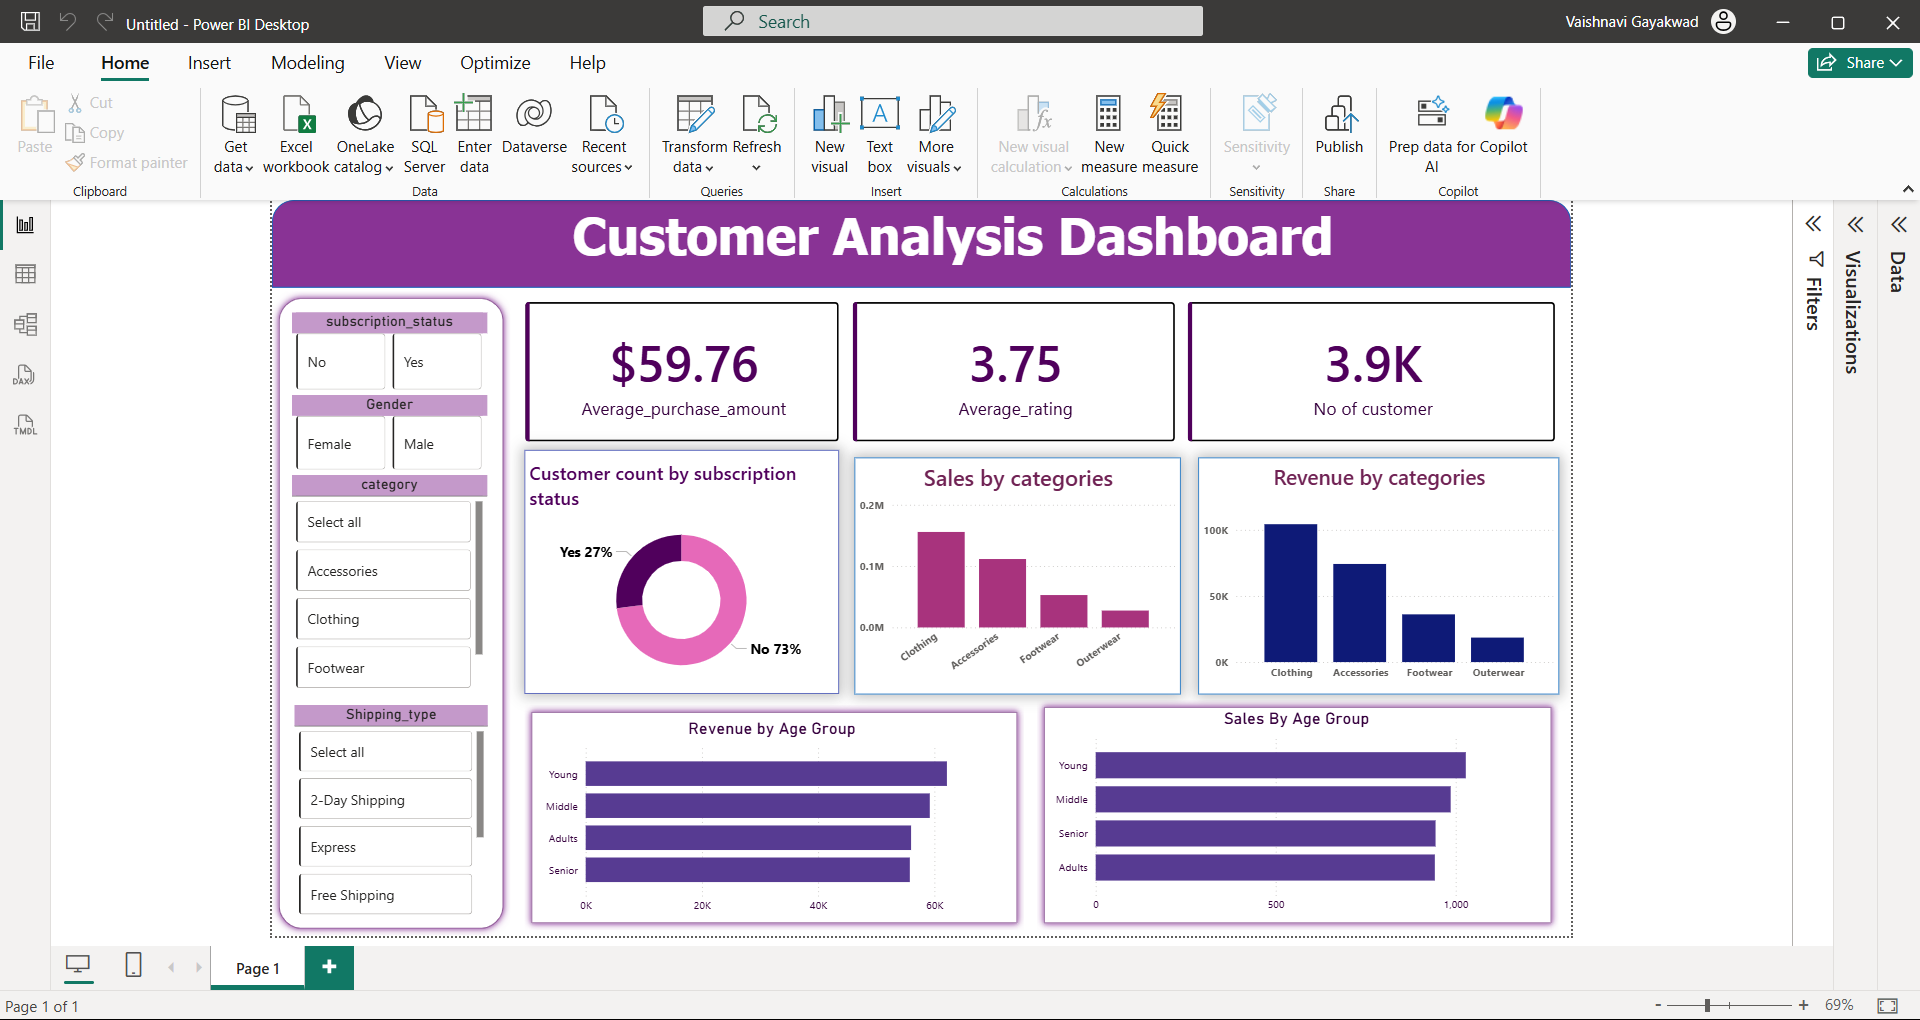

The page's visual inventory and layout, read from the dashboard file:
{"tool":"powerbi","page":{"name":"Dashboard","canvas":[1500,850],"ordinal":0},"visuals":[{"type":"shape","box":[0,0,1500.3,101.3],"z":0},{"type":"shape","box":[291.6,583.2,577.2,260],"z":1000},{"type":"shape","box":[0,105.7,275.3,744],"z":2000},{"type":"textbox","box":[341.5,0,936.6,105.6],"z":3000},{"type":"cardVisual","fields":{"Data":["customer_analysis customer1.Average_rating"]},"box":[654.3,101.7,406.9,195.5],"z":4000},{"type":"cardVisual","fields":{"Data":["customer_analysis customer1.No of customer"]},"box":[1041.2,101.7,458.8,195.5],"z":5000},{"type":"cardVisual","fields":{"Data":["customer_analysis customer1.Average_purchasAMT"]},"box":[275.3,101.7,396.9,195.5],"z":6000},{"type":"clusteredColumnChart","title":"Sales by categories","fields":{"Category":["customer_analysis customer1.category"],"Y":["Sum(customer_analysis customer1.purchase_frequency_days)"]},"box":[672.2,297.2,377,273.3],"z":7000},{"type":"donutChart","title":"Customer count by subscription status","fields":{"Category":["customer_analysis customer1.subscription_status"],"Y":["CountNonNull(customer_analysis customer1.customer_id)"]},"box":[291.2,289.2,363,281.2],"z":8000},{"type":"clusteredColumnChart","title":"Revenue by categories","fields":{"Category":["customer_analysis customer1.category"],"Y":["Sum(customer_analysis customer1.purchase_amount)"]},"box":[1069.1,297.2,416.9,273.3],"z":9000},{"type":"advancedSlicerVisual","fields":{"Values":["customer_analysis customer1.category"]},"box":[22.9,316.9,225.4,253.5],"z":10000},{"type":"advancedSlicerVisual","fields":{"Values":["customer_analysis customer1.subscription_status"]},"box":[22.9,130.3,225.4,95.1],"z":11000},{"type":"advancedSlicerVisual","title":"Gender","fields":{"Values":["customer_analysis customer1.gender"]},"box":[22.9,225.4,225.4,91.5],"z":12000},{"type":"advancedSlicerVisual","title":"Shipping_type","fields":{"Values":["customer_analysis customer1.shipping_type"]},"box":[26.4,582.7,223.6,250],"z":13000},{"type":"clusteredBarChart","title":"Revenue by Age Group","fields":{"Y":["Sum(customer_analysis customer1.purchase_amount)"],"Category":["customer_analysis customer1.age_group"]},"box":[307.5,599.1,539.9,233.9],"z":14000},{"type":"shape","box":[883.8,577.5,602.1,265.8],"z":15000},{"type":"clusteredBarChart","title":"Sales By Age Group","fields":{"Category":["customer_analysis customer1.age_group"],"Y":["Count(customer_analysis customer1.customer_id)"]},"box":[896.1,588,573.9,244.7],"z":16000}]}

Visuals, with their boxes on the page's 1500x850 design canvas (x1, y1, x2, y2). These are canvas units, not pixel positions in the 1920x1020 screenshot, which may show the page scaled, cropped or inside an application window:
shape: 0/0/1500/101
shape: 292/583/869/843
shape: 0/106/275/850
textbox: 342/0/1278/106
cardVisual - customer_analysis customer1.Average_rating: 654/102/1061/297
cardVisual - customer_analysis customer1.No of customer: 1041/102/1500/297
cardVisual - customer_analysis customer1.Average_purchasAMT: 275/102/672/297
"Sales by categories" clusteredColumnChart: 672/297/1049/570
"Customer count by subscription status" donutChart: 291/289/654/570
"Revenue by categories" clusteredColumnChart: 1069/297/1486/570
advancedSlicerVisual - customer_analysis customer1.category: 23/317/248/570
advancedSlicerVisual - customer_analysis customer1.subscription_status: 23/130/248/225
"Gender" advancedSlicerVisual: 23/225/248/317
"Shipping_type" advancedSlicerVisual: 26/583/250/833
"Revenue by Age Group" clusteredBarChart: 308/599/847/833
shape: 884/578/1486/843
"Sales By Age Group" clusteredBarChart: 896/588/1470/833
